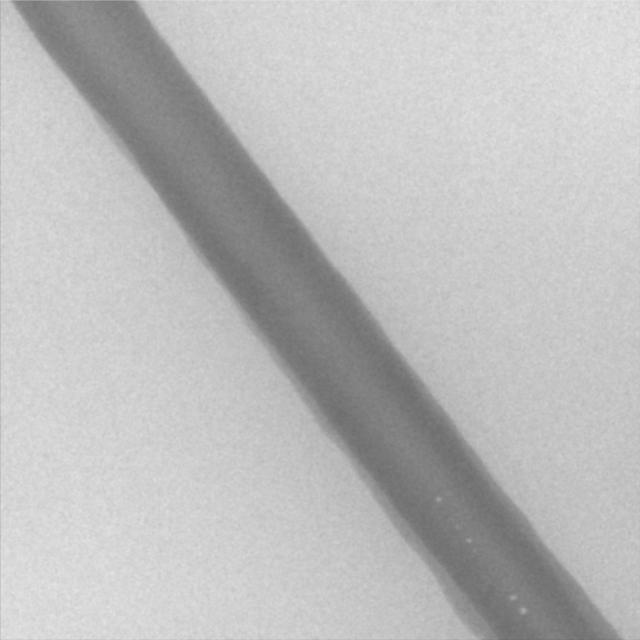air hole: (508, 593, 518, 603), (433, 494, 442, 505), (519, 606, 526, 617), (464, 536, 472, 545)
